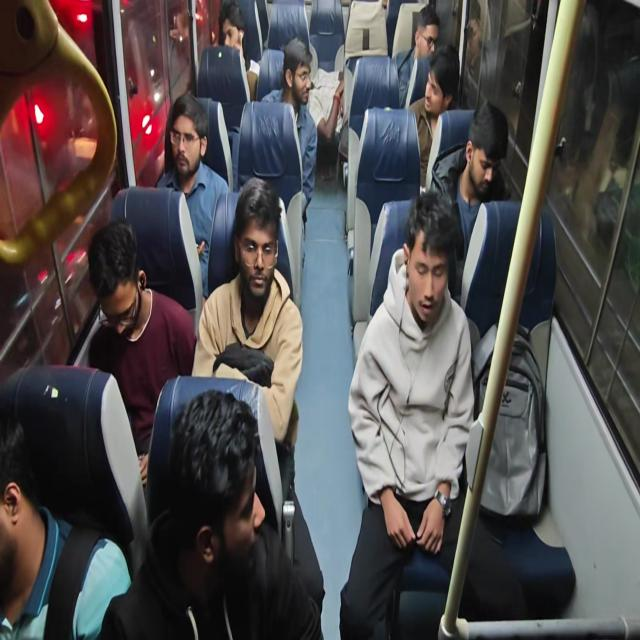person: (128, 347, 313, 640), (0, 404, 81, 640), (93, 209, 172, 376), (226, 153, 298, 332), (384, 226, 451, 339), (159, 98, 215, 194), (306, 27, 347, 144), (468, 114, 512, 202), (422, 56, 462, 137), (284, 28, 316, 106), (224, 10, 258, 74), (403, 26, 450, 72)
